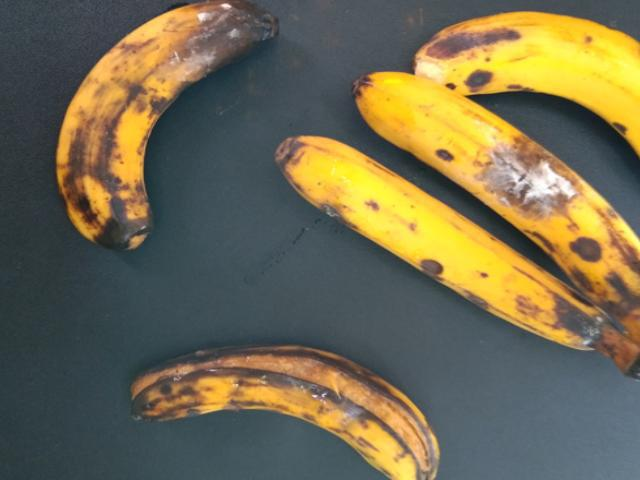overripe: (267, 135, 625, 358), (344, 68, 632, 293), (409, 1, 639, 154)
rotten: (40, 0, 264, 257), (98, 323, 449, 479), (450, 110, 576, 233)
